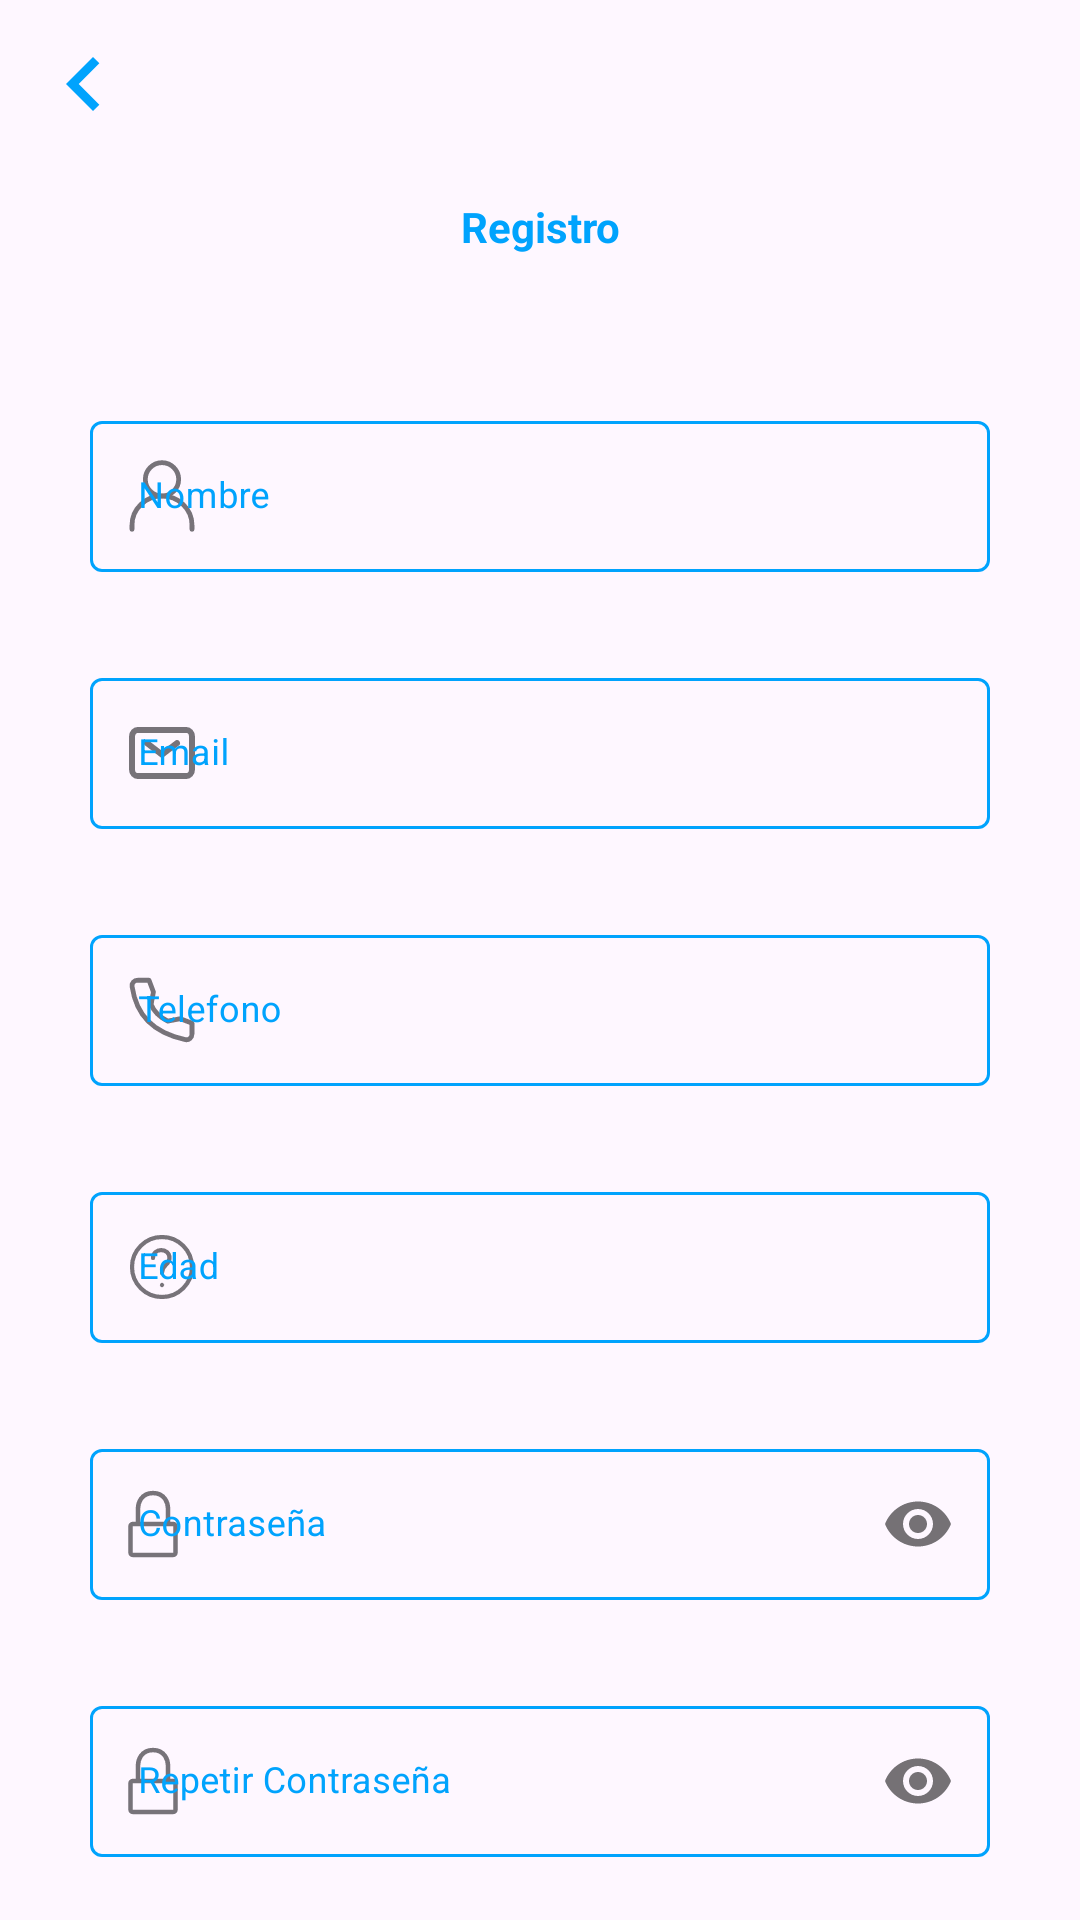

Named icons in this screenshot (1080 x 1920) and their bounding boxes, (x1, y1, x2, y2):
chevron left: (66, 57, 100, 111)
